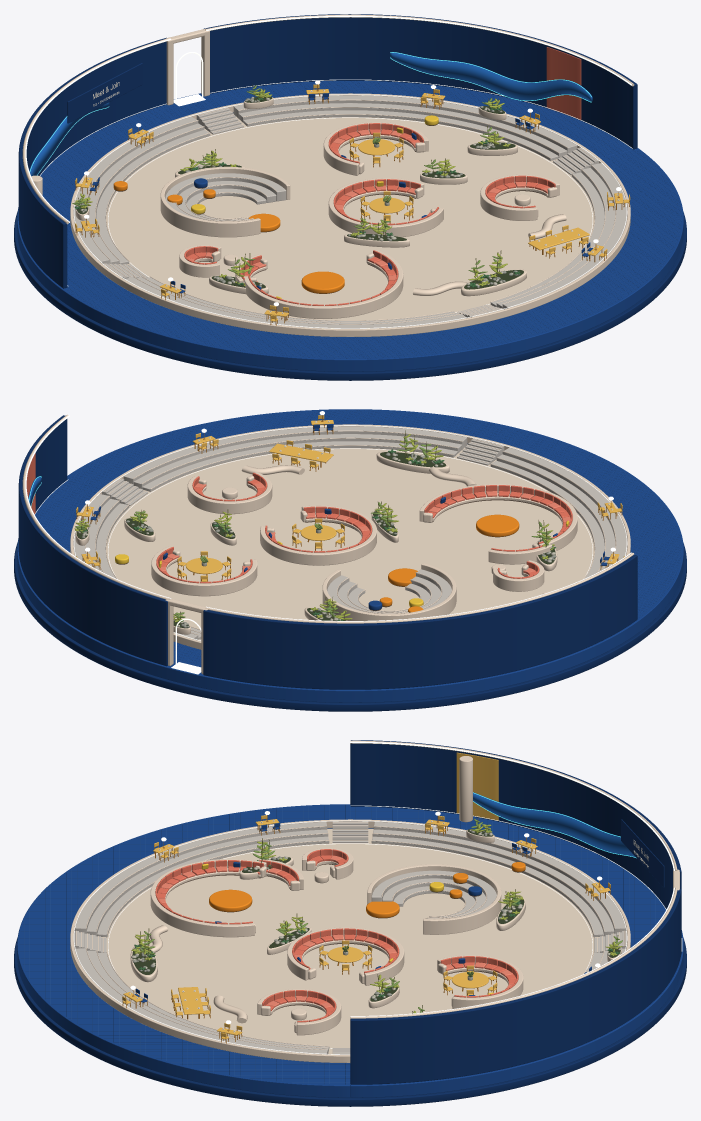
Rendered from space.glb.
3 renders of one model, top to bottom at view 1: azimuth 30°, elevation 25°; view 2: azimuth 150°, elevation 25°; view 3: azimuth 270°, elevation 25°, orthographic.
Visible parts, largest first — view 1: Architecture__Cream porcelain floor__0_0, Architecture__Cobalt blue circulation deck__0_0, Architecture__Deep ultramarine architecture__0_0, Terraces__Warm grey terrace treads__0_0, Lounge_Pods__Warm ivory • matte ceramic__0_0, Terraces__Warm ivory • matte ceramic__0_0, Architecture__Subtle blue tile grout__0_0, Lounge_Pods__Terracotta coral upholstery__0_0, Signage__Azure sculpted wave__0_0, Lounge_Pods__Warm grey terrace treads__0_0, Architecture__Warm luminous strips__0_0, Terraces__Warm luminous strips__0_0 (+13 smaller); view 2: Architecture__Deep ultramarine architecture__0_0, Architecture__Cream porcelain floor__0_0, Architecture__Cobalt blue circulation deck__0_0, Terraces__Warm grey terrace treads__0_0, Lounge_Pods__Warm ivory • matte ceramic__0_0, Architecture__Subtle blue tile grout__0_0, Terraces__Warm ivory • matte ceramic__0_0, Lounge_Pods__Terracotta coral upholstery__0_0, Lounge_Pods__Warm grey terrace treads__0_0, Architecture__Warm ivory • matte ceramic__0_0, Terraces__Warm luminous strips__0_0, Architecture__Warm luminous strips__0_0 (+10 smaller); view 3: Architecture__Cream porcelain floor__0_0, Architecture__Deep ultramarine architecture__0_0, Architecture__Cobalt blue circulation deck__0_0, Terraces__Warm grey terrace treads__0_0, Lounge_Pods__Warm ivory • matte ceramic__0_0, Terraces__Warm ivory • matte ceramic__0_0, Architecture__Subtle blue tile grout__0_0, Lounge_Pods__Terracotta coral upholstery__0_0, Lounge_Pods__Warm grey terrace treads__0_0, Signage__Azure sculpted wave__0_0, Architecture__Warm ivory • matte ceramic__0_0, Architecture__Warm luminous strips__0_0 (+10 smaller).
Part boxes in pixels (x1,y1,x2,y2): Architecture__Cream porcelain floor__0_0: (106,113,594,320); Architecture__Cobalt blue circulation deck__0_0: (17,80,683,371); Architecture__Deep ultramarine architecture__0_0: (14,14,686,380); Terraces__Warm grey terrace treads__0_0: (73,95,627,328); Lounge_Pods__Warm ivory • matte ceramic__0_0: (160,122,566,318); Terraces__Warm ivory • matte ceramic__0_0: (70,93,630,336); Architecture__Subtle blue tile grout__0_0: (41,80,681,358); Lounge_Pods__Terracotta coral upholstery__0_0: (184,123,555,305); Signage__Azure sculpted wave__0_0: (29,52,592,176); Lounge_Pods__Warm grey terrace treads__0_0: (165,173,286,220); Architecture__Warm luminous strips__0_0: (25,15,632,286); Terraces__Warm luminous strips__0_0: (73,94,627,328); Architecture__Deep ultramarine architecture__0_0: (14,415,686,711); Architecture__Cream porcelain floor__0_0: (106,444,594,629); Architecture__Cobalt blue circulation deck__0_0: (17,409,683,702); Terraces__Warm grey terrace treads__0_0: (73,426,627,640); Lounge_Pods__Warm ivory • matte ceramic__0_0: (151,465,577,620); Architecture__Subtle blue tile grout__0_0: (36,409,681,667); Terraces__Warm ivory • matte ceramic__0_0: (70,424,630,649); Lounge_Pods__Terracotta coral upholstery__0_0: (156,472,572,583); Lounge_Pods__Warm grey terrace treads__0_0: (327,569,451,613); Architecture__Warm ivory • matte ceramic__0_0: (22,414,634,623); Terraces__Warm luminous strips__0_0: (73,425,627,640); Architecture__Warm luminous strips__0_0: (25,415,631,664); Architecture__Cream porcelain floor__0_0: (101,828,599,1054); Architecture__Deep ultramarine architecture__0_0: (14,740,686,1106); Architecture__Cobalt blue circulation deck__0_0: (17,804,683,1097); Terraces__Warm grey terrace treads__0_0: (74,821,626,1054); Lounge_Pods__Warm ivory • matte ceramic__0_0: (149,848,523,1035); Terraces__Warm ivory • matte ceramic__0_0: (70,819,630,1062); Architecture__Subtle blue tile grout__0_0: (19,805,664,1084); Lounge_Pods__Terracotta coral upholstery__0_0: (155,849,518,1022); Lounge_Pods__Warm grey terrace treads__0_0: (371,870,496,918); Signage__Azure sculpted wave__0_0: (473,792,635,857); Architecture__Warm ivory • matte ceramic__0_0: (350,740,677,1018); Architecture__Warm luminous strips__0_0: (350,741,674,1016).
Size of the model in its own units: 64 by 9.04 by 64.
